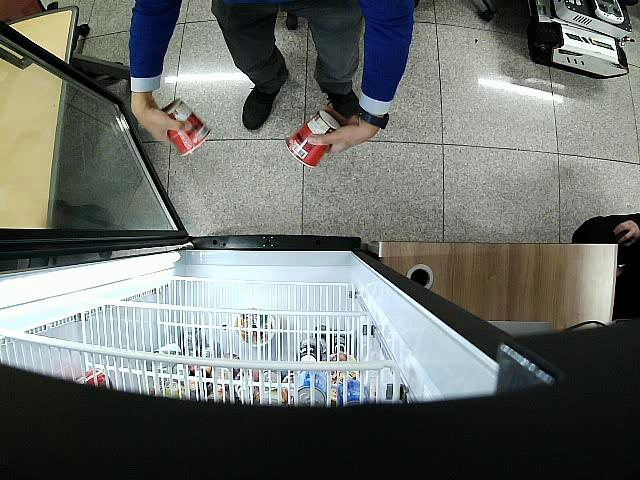00_hand: (130, 101, 190, 147), (308, 106, 363, 156)
02_shinRamen_S: (286, 111, 340, 168), (160, 99, 210, 157)
